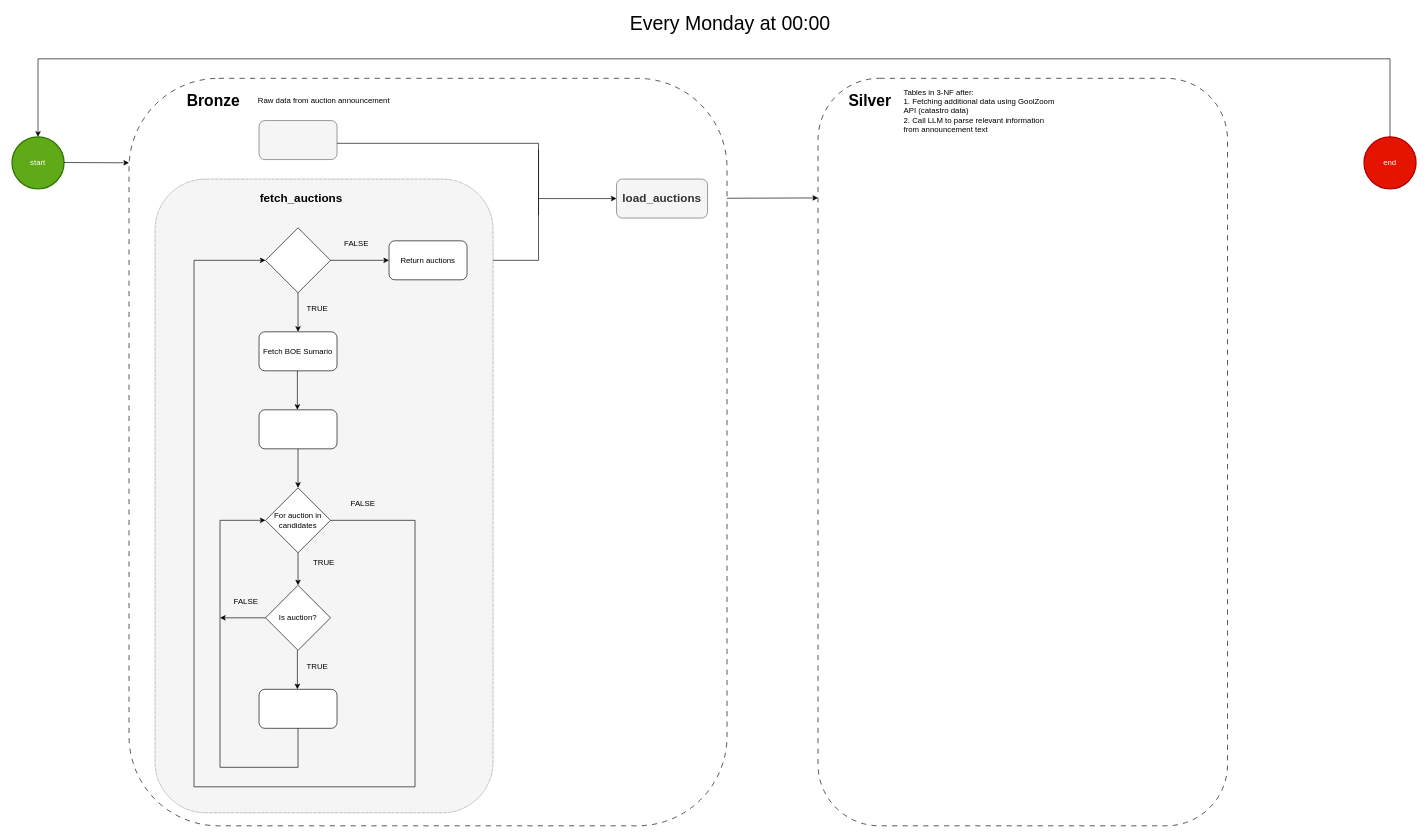
Image size: 1427x837. Some labels were removed from this diagram. Each missing label, with the centre of its shape:
create_table: the point at 297,140
For day in past 7 days: the point at 298,260
Get information about auction: the point at 297,708
Parse candidate auctions: the point at 297,429
